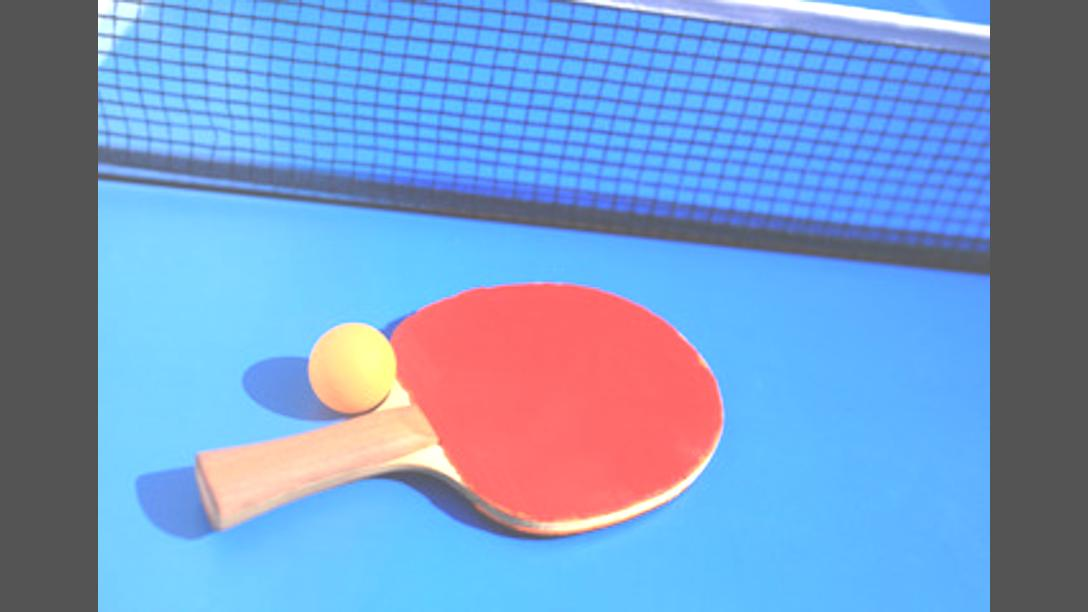Table-Tennis-Ball: (312, 322, 394, 412)
